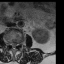CCS_normal: (13, 39, 15, 51)
LFS_stenosis: (17, 40, 20, 47)
LLS_normal: (15, 40, 17, 48)
RFS_normal: (8, 40, 10, 47)
RLS_normal: (10, 40, 13, 48)
